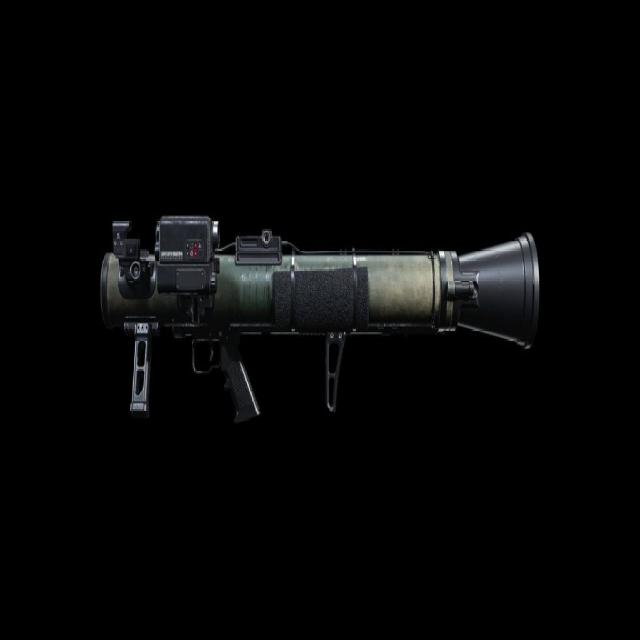bazooka: (82, 158, 554, 448)
